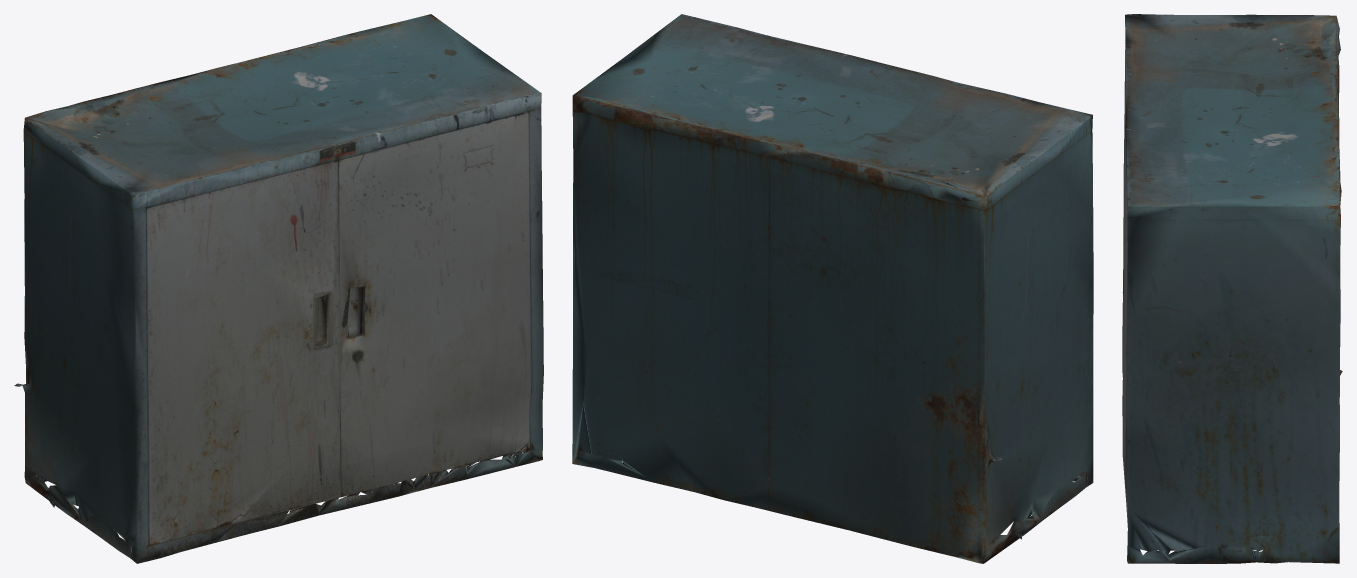
File: PX_Old_Tin_Cabinet_01_LOD4.fbx
3 views of the same model, side by side, from view 1: azimuth 30°, elevation 25°; view 2: azimuth 150°, elevation 25°; view 3: azimuth 270°, elevation 25° (orthographic). The views are drawn at different scales.
Parts seen in each view (by area): view 1: PX_Old_Tin_Cabinet_01_LOD4; view 2: PX_Old_Tin_Cabinet_01_LOD4; view 3: PX_Old_Tin_Cabinet_01_LOD4.
Boxes of the visible parts, box(x1,y1,x2,y2) form: PX_Old_Tin_Cabinet_01_LOD4: box(14, 14, 543, 563); PX_Old_Tin_Cabinet_01_LOD4: box(572, 14, 1093, 563); PX_Old_Tin_Cabinet_01_LOD4: box(1122, 14, 1342, 563).
Size of the model in its own units: 79.73 by 66.27 by 36.82.
